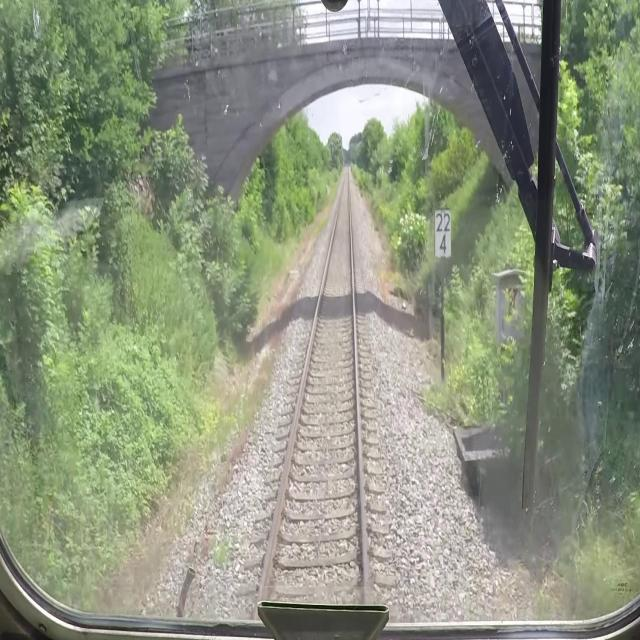rail-track: (262, 165, 363, 596)
